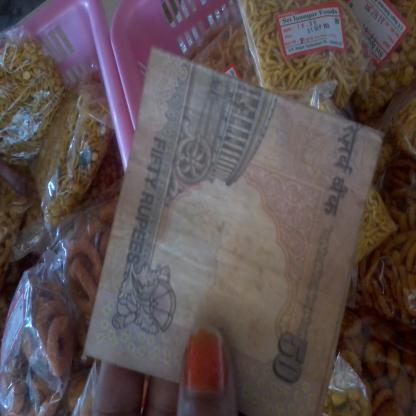Old50Back: (82, 43, 382, 416)
